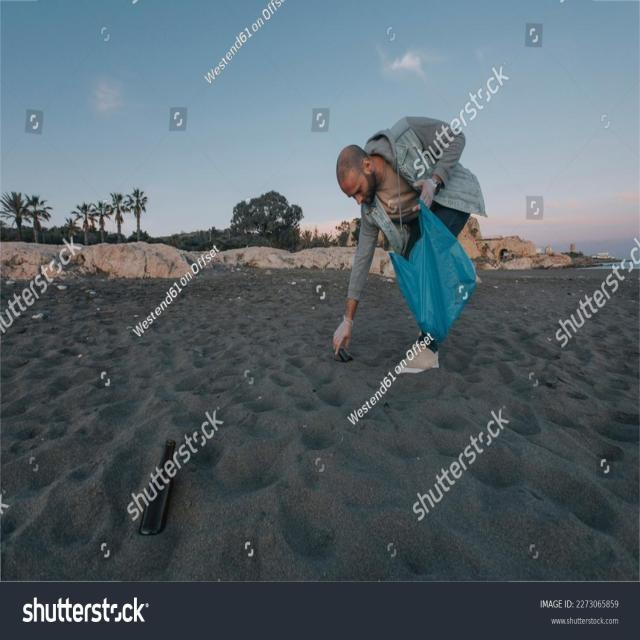Plastic_Bag: (383, 200, 483, 347)
